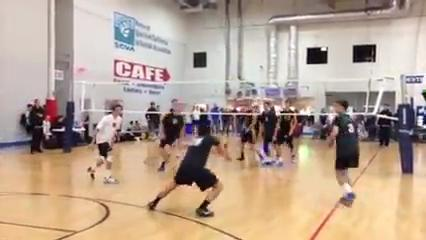ricezione: (145, 123, 232, 218)
